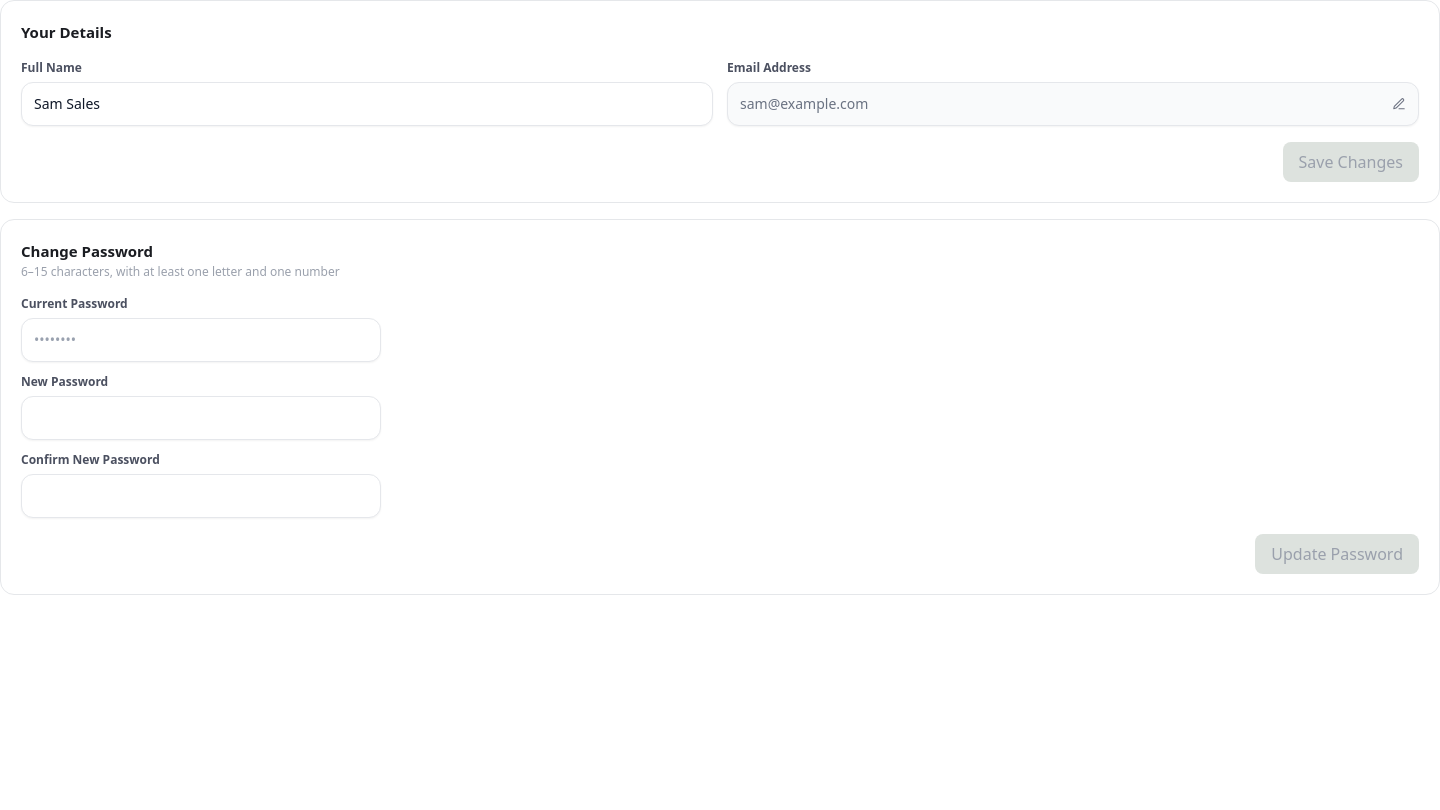
it: AccountTab password form › sends the change and reports the emailed confirmation
The width and height of the screenshot is (1440, 810).
In the password field labelled "Current Password": (201, 340) top-left (21, 318), bottom-right (381, 362), type "Sam2026"
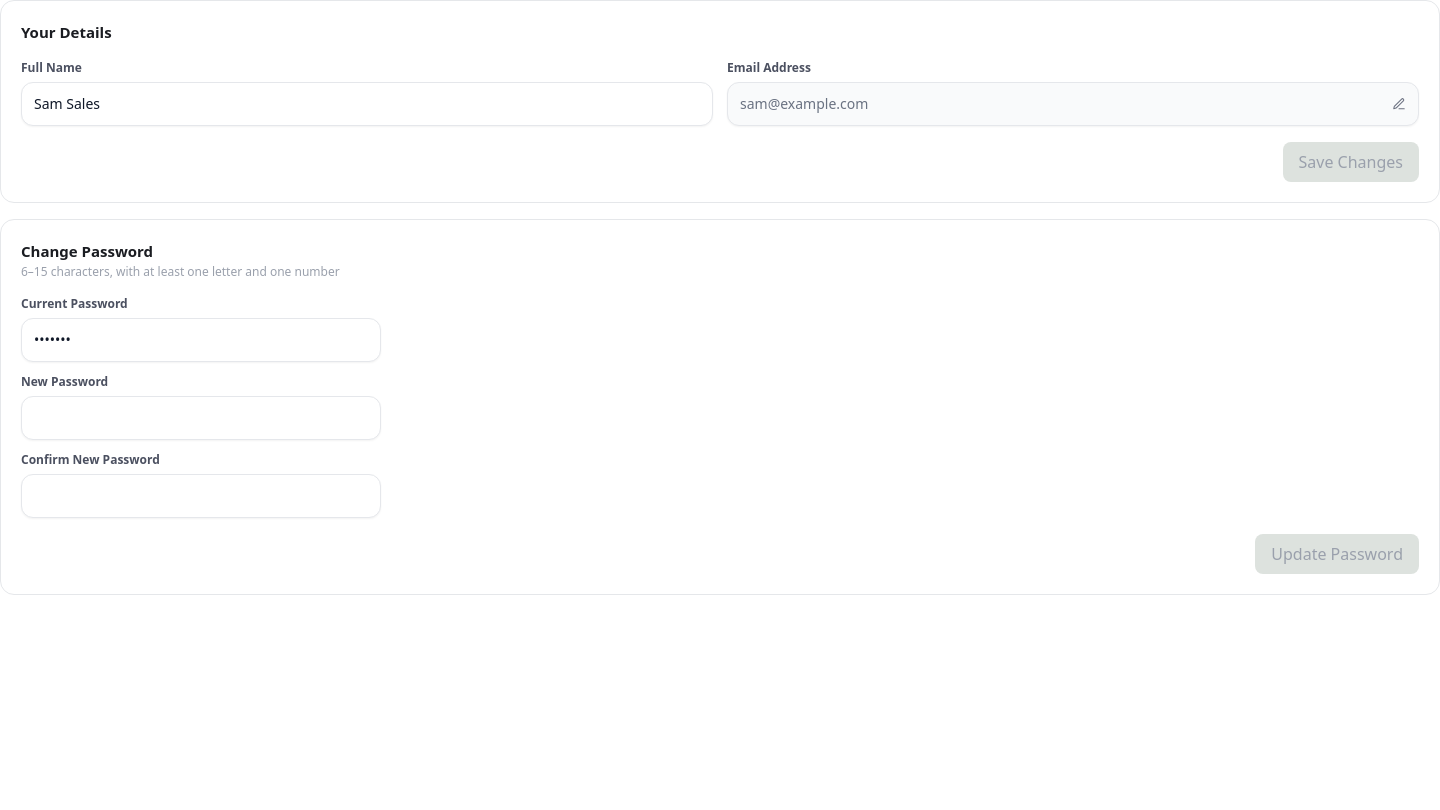
In the password field labelled "New Password": (201, 418) top-left (21, 396), bottom-right (381, 440), type "Kerala2026"
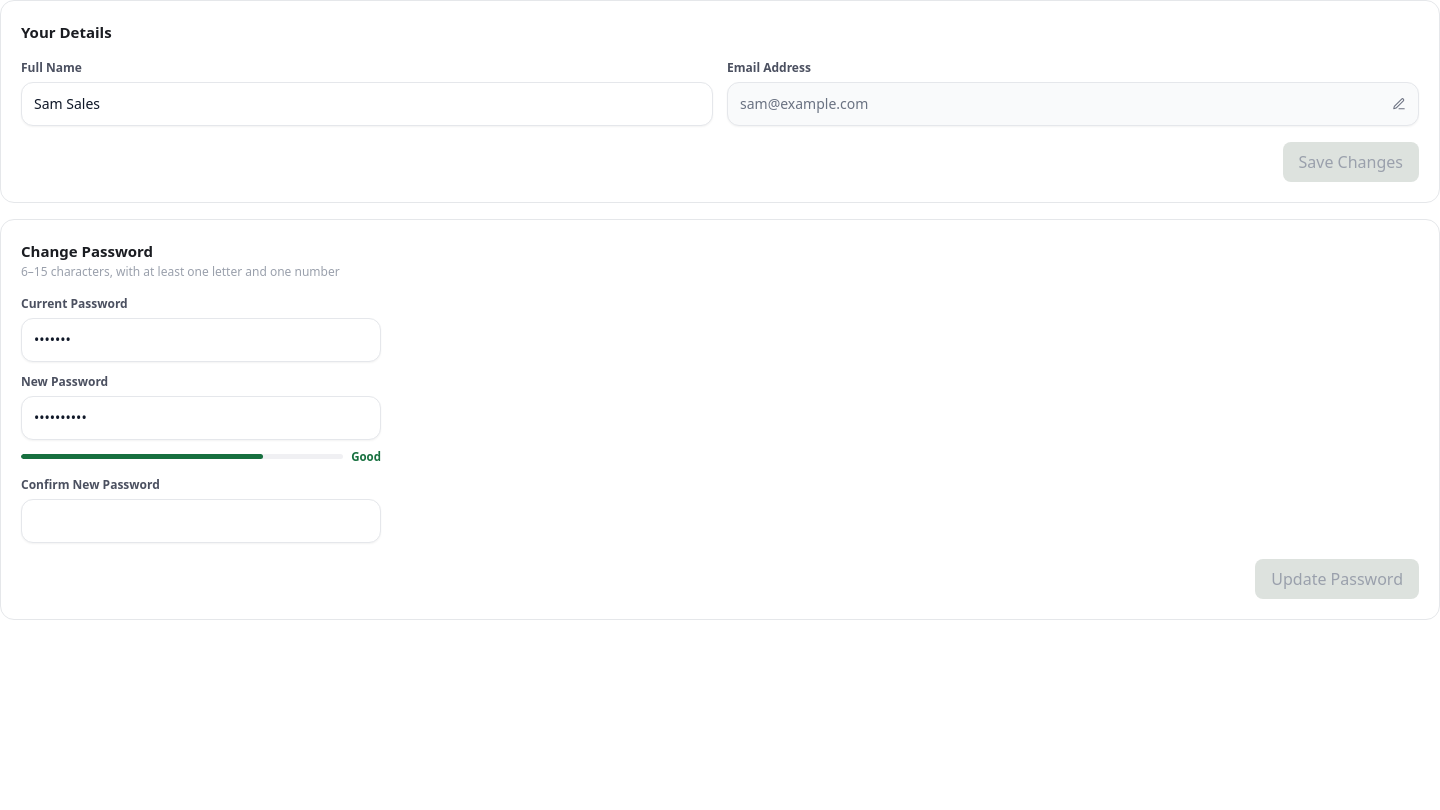
In the password field labelled "Confirm New Password": (201, 521) top-left (21, 499), bottom-right (381, 543), type "Kerala2026"
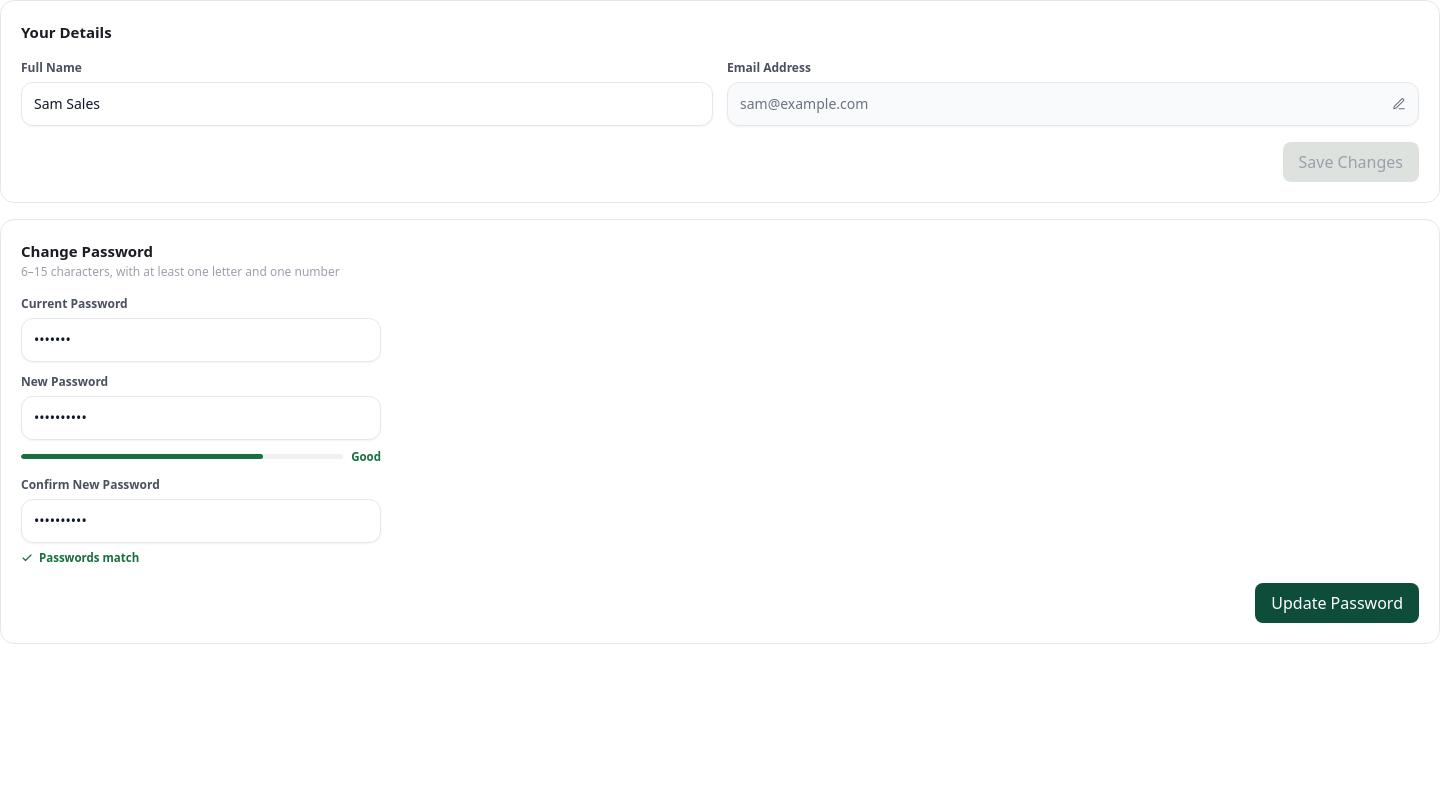
Click the button "Update Password": click(1337, 602) top-left (1255, 582), bottom-right (1419, 622)
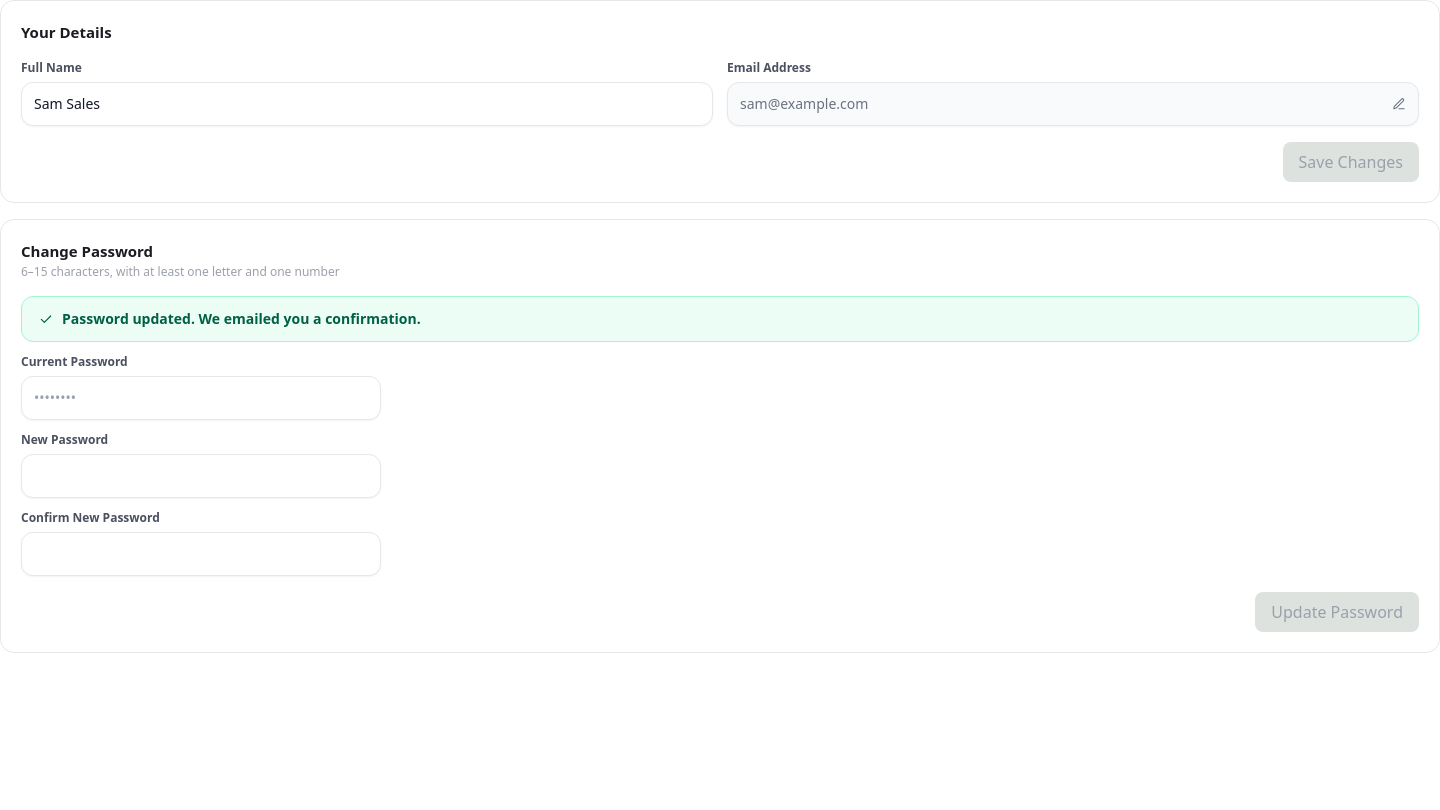
Expected: the text "Password updated. We emailed you a confirmation." is shown, top-left (21, 296), bottom-right (1419, 342)
